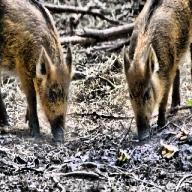boar: (0, 0, 72, 142), (122, 0, 192, 141)
